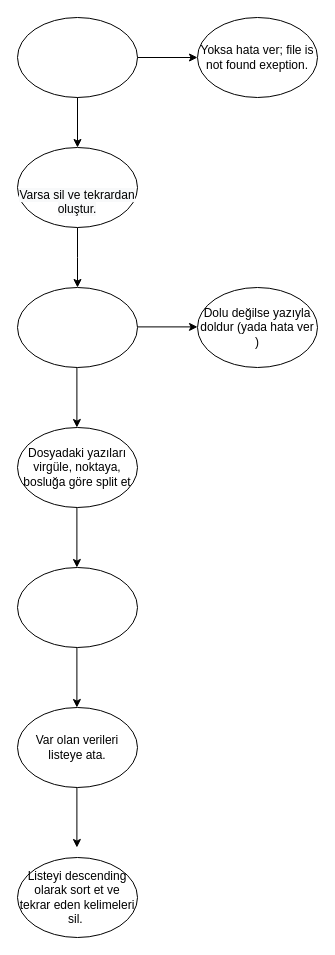
The diagram is 335 pixels wide and 955 high, and some of its shapes have lost their labels. The centre of each missing label's shape, as x and y in pixels:
"Dosya var mı yok mu kontrol et." goes at pixel 77 57.
"Dosyanın içi dolu mu?" goes at pixel 77 327.
"kalan satır boşluklarını sil" goes at pixel 77 607.
